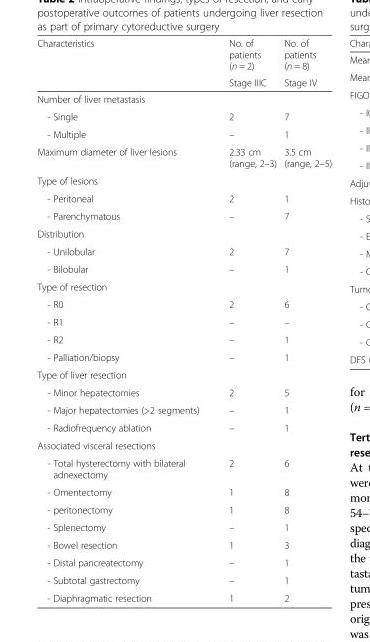table: (36, 37, 331, 603)
table column: (36, 37, 213, 603), (213, 37, 279, 603), (279, 37, 331, 603)
table column header: (36, 37, 331, 90)
table projected row header: (36, 171, 331, 189), (36, 224, 331, 242), (36, 277, 331, 295), (36, 365, 331, 383), (36, 90, 331, 107), (36, 436, 331, 453)
table row: (36, 37, 331, 73), (36, 142, 331, 171), (36, 453, 331, 482), (36, 107, 331, 125), (36, 171, 331, 189), (36, 206, 331, 224), (36, 224, 331, 242), (36, 259, 331, 277), (36, 277, 331, 295), (36, 312, 331, 330), (36, 330, 331, 348), (36, 365, 331, 383), (36, 400, 331, 418), (36, 418, 331, 436), (36, 482, 331, 500), (36, 500, 331, 518), (36, 535, 331, 553), (36, 553, 331, 571), (36, 73, 331, 90), (36, 90, 331, 107), (36, 125, 331, 142), (36, 189, 331, 206), (36, 242, 331, 259), (36, 295, 331, 312), (36, 348, 331, 365), (36, 383, 331, 400), (36, 436, 331, 453), (36, 518, 331, 535), (36, 571, 331, 588), (36, 588, 331, 603)
table spanning cell: (36, 37, 213, 90), (213, 37, 279, 90), (279, 37, 331, 90)
